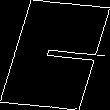L_W: (7, 36, 103, 74)
